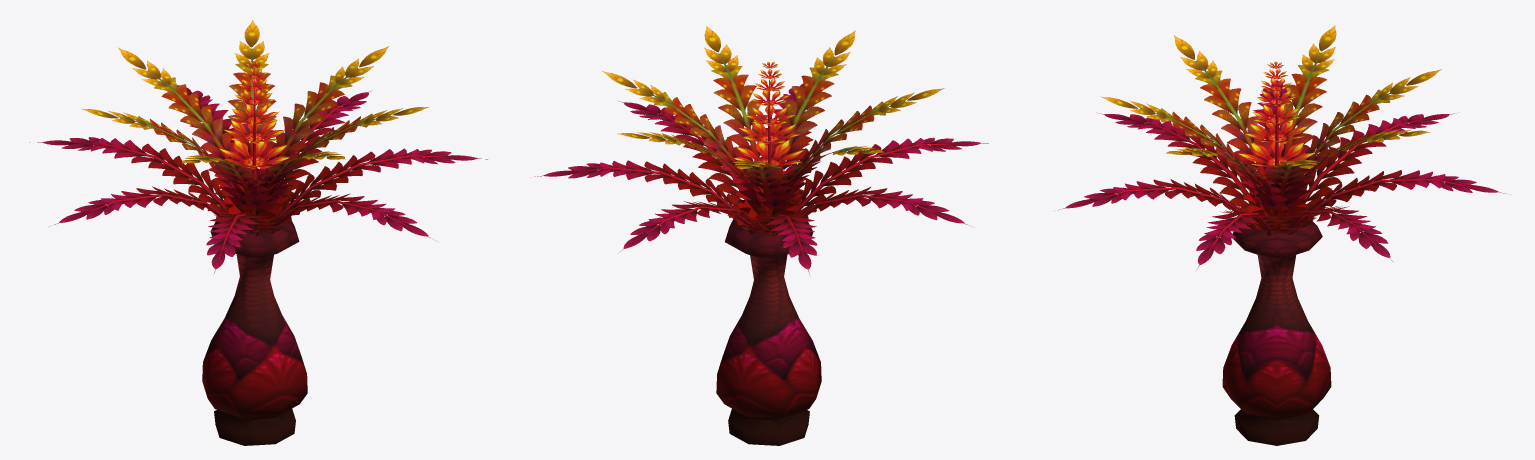
File: Red_Tree_11b.FBX
3 views of the same model, side by side, from view 1: azimuth 30°, elevation 25°; view 2: azimuth 150°, elevation 25°; view 3: azimuth 270°, elevation 25° (orthographic).
Parts seen in each view (by area): view 1: Red_Tree_11b; view 2: Red_Tree_11b; view 3: Red_Tree_11b.
Boxes of the visible parts, x1=… form: Red_Tree_11b: x1=29, y1=20, x2=487, y2=445; Red_Tree_11b: x1=534, y1=26, x2=988, y2=445; Red_Tree_11b: x1=1058, y1=25, x2=1508, y2=445.
Bounding box in the file's own units: 274 × 229 × 276.
